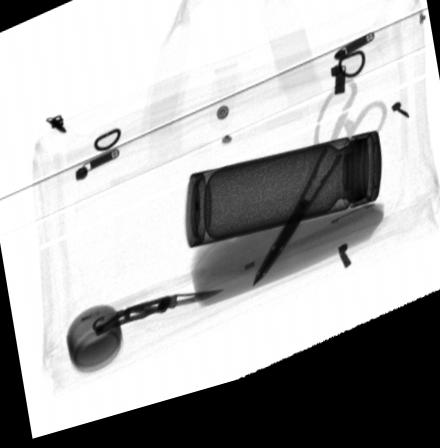Knife: (92, 302, 224, 342)
Scissors: (253, 96, 389, 301)
